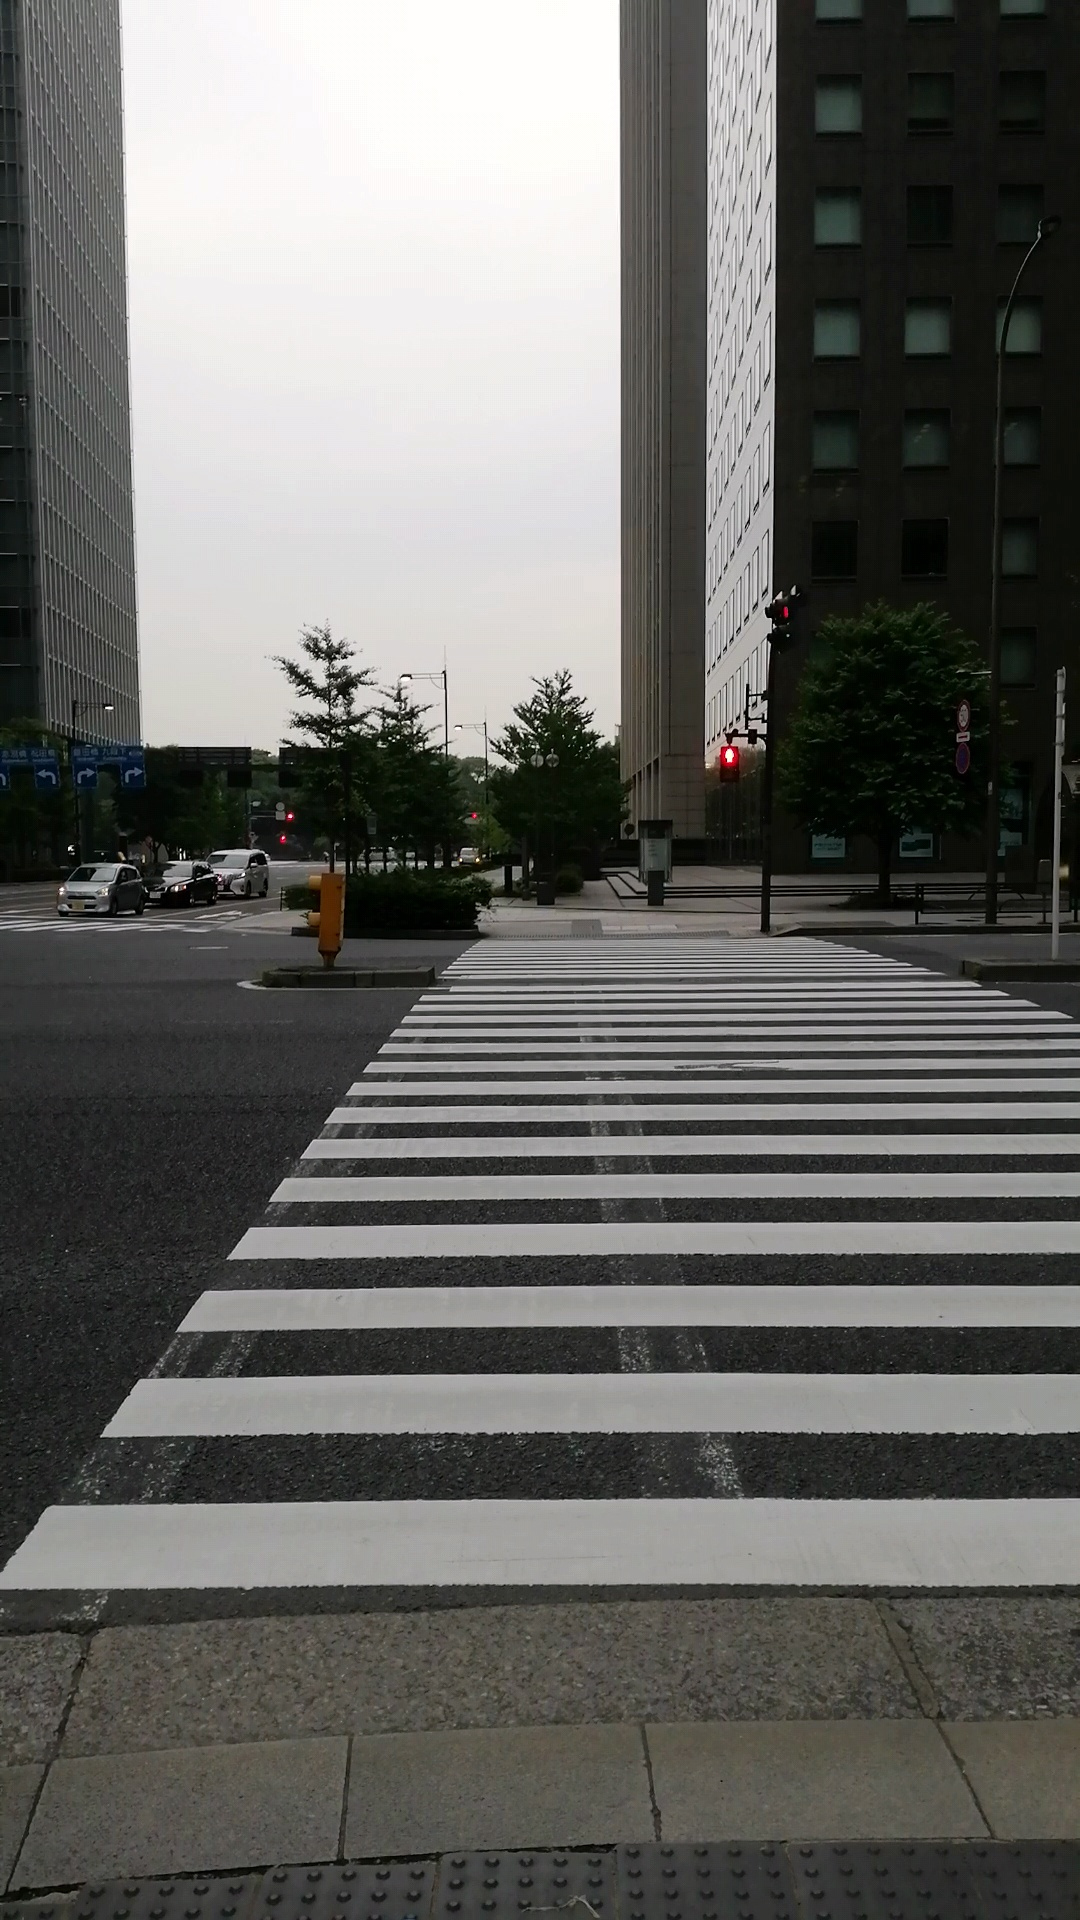red: (719, 744, 738, 787)
